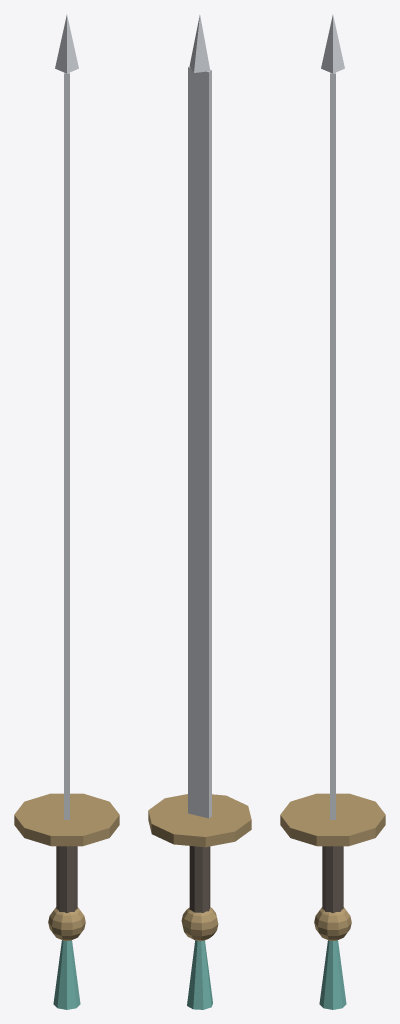
The model's file is xx_jian_3d.glb.
3 renders of one model, left to right at view 1: azimuth 90°, elevation 25°; view 2: azimuth 150°, elevation 25°; view 3: azimuth 270°, elevation 25°, orthographic.
Parts seen in each view (by area): view 1: jian_blade, jian_guard, jian_grip, jian_tassel, jian_pommel, jian_tip; view 2: jian_blade, jian_guard, jian_grip, jian_tassel, jian_pommel, jian_tip; view 3: jian_blade, jian_guard, jian_grip, jian_tassel, jian_pommel, jian_tip.
Part boxes in pixels (bbox=[...]): jian_blade: bbox=[64, 72, 69, 819]; jian_guard: bbox=[14, 793, 119, 846]; jian_grip: bbox=[56, 846, 77, 912]; jian_tassel: bbox=[53, 940, 80, 1009]; jian_pommel: bbox=[48, 907, 85, 940]; jian_tip: bbox=[55, 15, 78, 73]; jian_blade: bbox=[188, 66, 211, 818]; jian_guard: bbox=[148, 794, 251, 847]; jian_grip: bbox=[189, 846, 210, 913]; jian_tassel: bbox=[187, 940, 212, 1009]; jian_pommel: bbox=[181, 907, 218, 941]; jian_tip: bbox=[189, 15, 210, 72]; jian_blade: bbox=[330, 72, 335, 819]; jian_guard: bbox=[280, 793, 385, 846]; jian_grip: bbox=[322, 846, 343, 912]; jian_tassel: bbox=[319, 940, 346, 1009]; jian_pommel: bbox=[314, 907, 351, 940]; jian_tip: bbox=[321, 15, 344, 73].
Size of the model in its own units: 0.1331 by 1.45 by 0.14.
